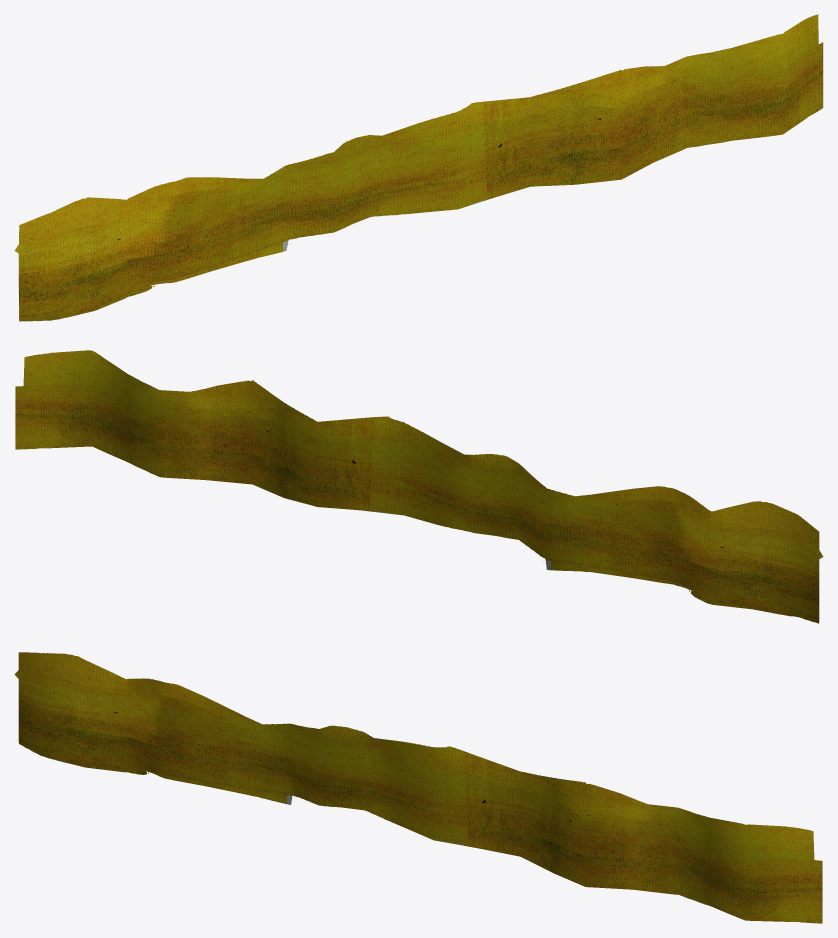
Rendered from mountain.fbx.
3 renders of one model, top to bottom at view 1: azimuth 30°, elevation 25°; view 2: azimuth 150°, elevation 25°; view 3: azimuth 330°, elevation 25°, orthographic. The views are drawn at different scales.
Parts seen in each view (by area): view 1: 山; view 2: 山; view 3: 山.
Part boxes in pixels (box(x1,y1,x2,y2)): 山: box(14, 14, 823, 321); 山: box(15, 350, 823, 623); 山: box(14, 652, 822, 923).
Bounding box in the file's own units: 977 × 133 × 51.41.
1 material, 1 textured.
